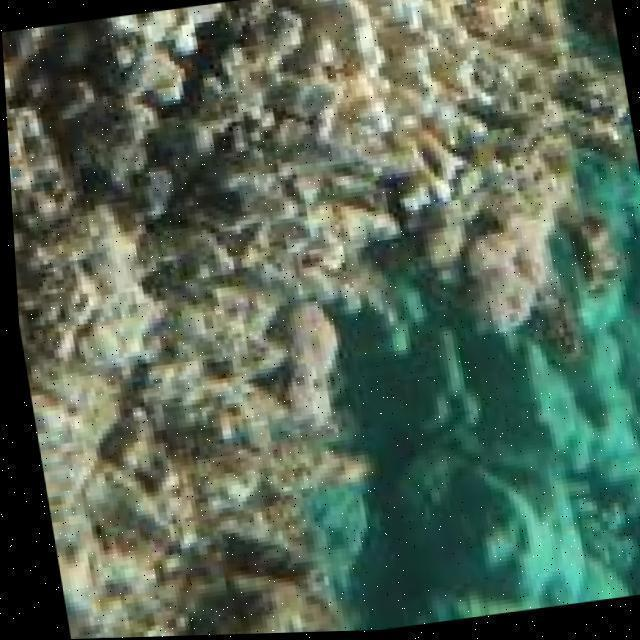Bleached Coral: (331, 0, 515, 179)
Dead Coral: (39, 29, 333, 208)
